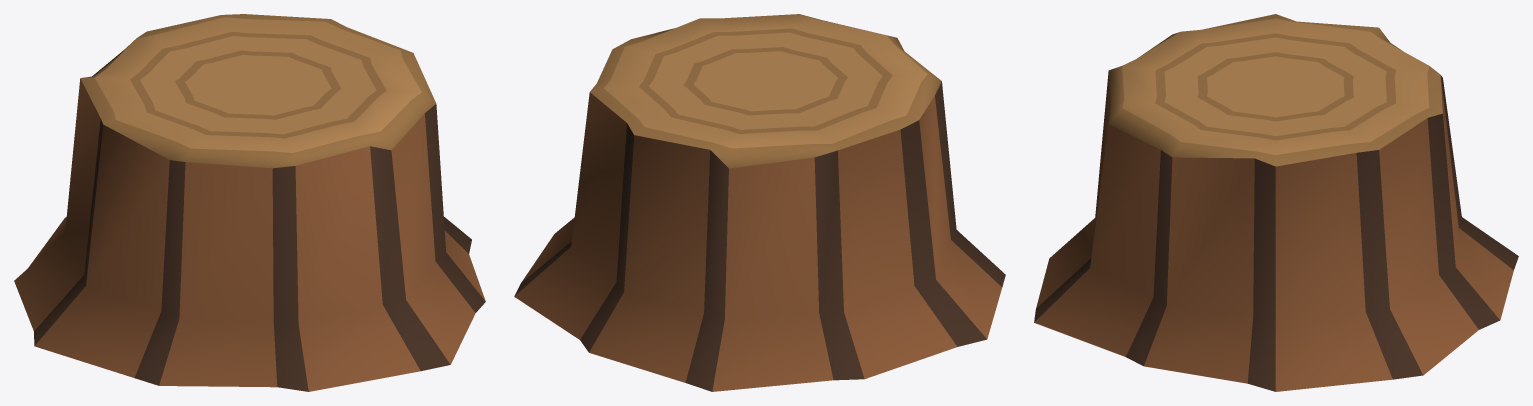
The model's file is stump_a.glb.
The picture shows the model from 3 angles, left to right: view 1: azimuth 30°, elevation 25°; view 2: azimuth 150°, elevation 25°; view 3: azimuth 270°, elevation 25°; orthographic projection.
Visible parts, largest first — view 1: Body; view 2: Body; view 3: Body.
Boxes of the visible parts, left/top/right/bottom form: Body: left=14, top=14, right=485, bottom=391; Body: left=514, top=14, right=1005, bottom=391; Body: left=1034, top=14, right=1518, bottom=391.
Size of the model in its own units: 1.24 by 0.56 by 1.21.
